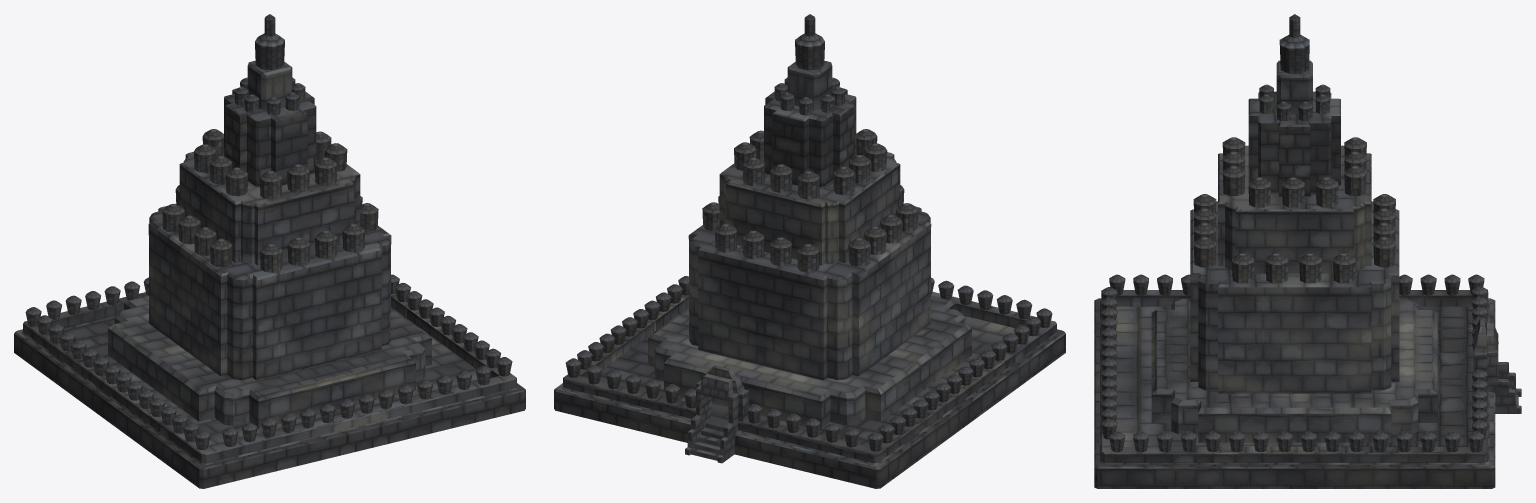
Rendered from Candi kotak 3.fbx.
3 views of the same model, side by side, from view 1: azimuth 30°, elevation 25°; view 2: azimuth 150°, elevation 25°; view 3: azimuth 270°, elevation 25° (orthographic). The views are drawn at different scales.
Visible parts, largest first — view 1: Cube.004, Cylinder.042, Cylinder.040, Cylinder.037, Cylinder.039, Cylinder.036, Cylinder.038, Cylinder.043, Cylinder.041, Cylinder.014; view 2: Cube.004, Cylinder.042, Cylinder.043, Cylinder.037, Cylinder.039, Cylinder.036, Cylinder.038, Cylinder.040, Cylinder.041, Cylinder.014; view 3: Cube.004, Cylinder.042, Cylinder.039, Cylinder.038, Cylinder.037, Cylinder.040, Cylinder.036, Cylinder.043, Cylinder.014, Cylinder.041.
Boxes of the visible parts, x1,y1,x2,y2 form: Cube.004: (14, 60, 525, 488); Cylinder.042: (25, 274, 512, 449); Cylinder.040: (222, 365, 491, 446); Cylinder.037: (162, 196, 378, 267); Cylinder.039: (175, 185, 365, 272); Cylinder.036: (194, 131, 347, 196); Cylinder.038: (202, 129, 337, 199); Cylinder.043: (46, 277, 148, 319); Cylinder.041: (255, 14, 284, 70); Cylinder.014: (234, 77, 305, 115); Cube.004: (554, 60, 1065, 488); Cylinder.042: (565, 276, 1052, 451); Cylinder.043: (586, 365, 859, 447); Cylinder.037: (702, 196, 918, 266); Cylinder.039: (714, 185, 904, 272); Cylinder.036: (734, 130, 887, 195); Cylinder.038: (742, 129, 877, 199); Cylinder.040: (931, 277, 1032, 319); Cylinder.041: (795, 14, 824, 70); Cylinder.014: (774, 77, 845, 115); Cube.004: (1094, 60, 1521, 488); Cylinder.042: (1109, 274, 1484, 451); Cylinder.039: (1193, 194, 1395, 267); Cylinder.038: (1222, 137, 1366, 195); Cylinder.037: (1232, 253, 1355, 283); Cylinder.040: (1101, 287, 1117, 439); Cylinder.036: (1248, 177, 1338, 207); Cylinder.043: (1472, 286, 1487, 439); Cylinder.014: (1259, 84, 1330, 120); Cylinder.041: (1279, 14, 1309, 73).
Bounding box in the file's own units: 290 × 311 × 309.
1 material, 1 textured.
